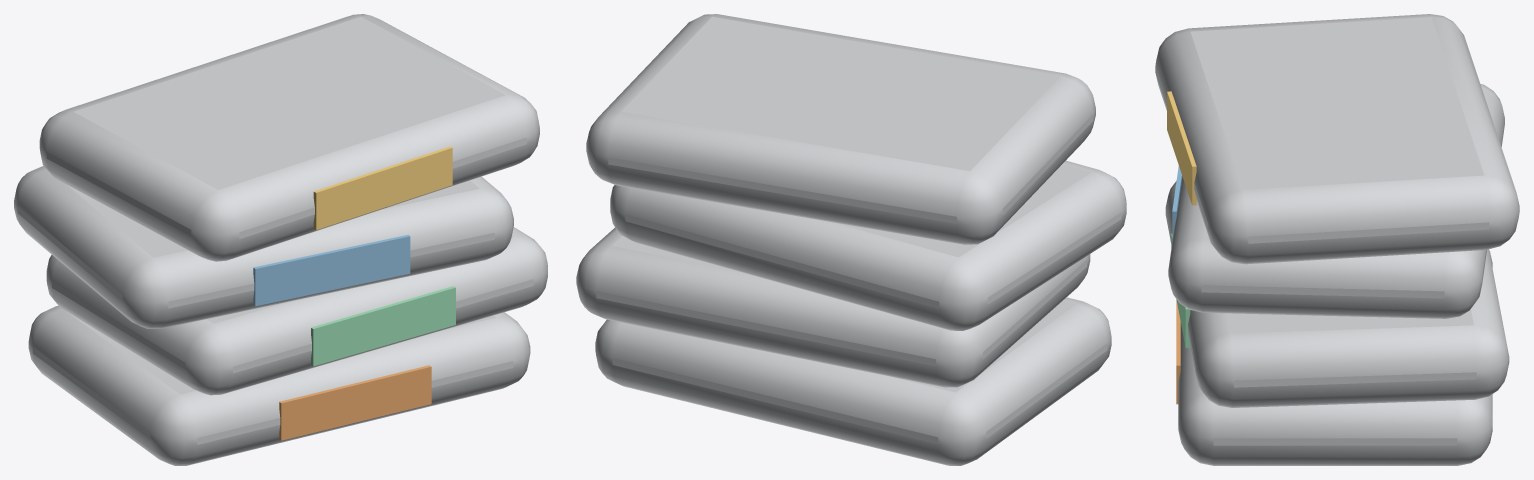
Rendered from ration_packs.glb.
3 views of the same model, side by side, from view 1: azimuth 30°, elevation 25°; view 2: azimuth 150°, elevation 25°; view 3: azimuth 270°, elevation 25° (orthographic). The views are drawn at different scales.
Parts seen in each view (by area): view 1: pouch3_pouch_silver, pouch2_pouch_silver, pouch0_pouch_silver, pouch1_pouch_silver, pouch2_label_cool_blue, pouch0_label_orange, pouch1_label_bright_green, pouch3_label_amber; view 2: pouch3_pouch_silver, pouch2_pouch_silver, pouch0_pouch_silver, pouch1_pouch_silver; view 3: pouch3_pouch_silver, pouch1_pouch_silver, pouch2_pouch_silver, pouch0_pouch_silver, pouch3_label_amber, pouch0_label_orange.
Boxes of the visible parts, x1=… form: pouch3_pouch_silver: x1=39, y1=14, x2=539, y2=261; pouch2_pouch_silver: x1=14, y1=166, x2=513, y2=328; pouch0_pouch_silver: x1=28, y1=305, x2=530, y2=465; pouch1_pouch_silver: x1=46, y1=227, x2=547, y2=395; pouch2_label_cool_blue: x1=253, y1=234, x2=410, y2=306; pouch0_label_orange: x1=279, y1=365, x2=431, y2=440; pouch1_label_bright_green: x1=311, y1=286, x2=455, y2=366; pouch3_label_amber: x1=313, y1=146, x2=452, y2=230; pouch3_pouch_silver: x1=586, y1=14, x2=1095, y2=244; pouch2_pouch_silver: x1=610, y1=160, x2=1126, y2=330; pouch0_pouch_silver: x1=595, y1=297, x2=1111, y2=465; pouch1_pouch_silver: x1=576, y1=227, x2=1090, y2=387; pouch3_pouch_silver: x1=1155, y1=14, x2=1519, y2=264; pouch1_pouch_silver: x1=1165, y1=181, x2=1509, y2=407; pouch2_pouch_silver: x1=1168, y1=84, x2=1504, y2=318; pouch0_pouch_silver: x1=1178, y1=250, x2=1492, y2=465; pouch3_label_amber: x1=1167, y1=91, x2=1196, y2=205; pouch0_label_orange: x1=1176, y1=299, x2=1180, y2=404.
Bounding box in the file's own units: 0.225 × 0.14 × 0.1621.
